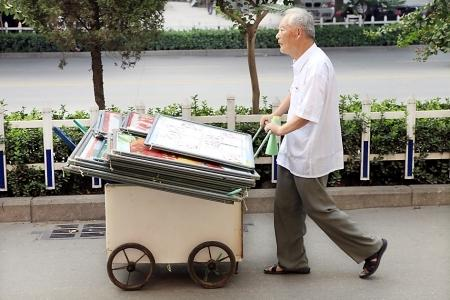person: (261, 8, 387, 279)
